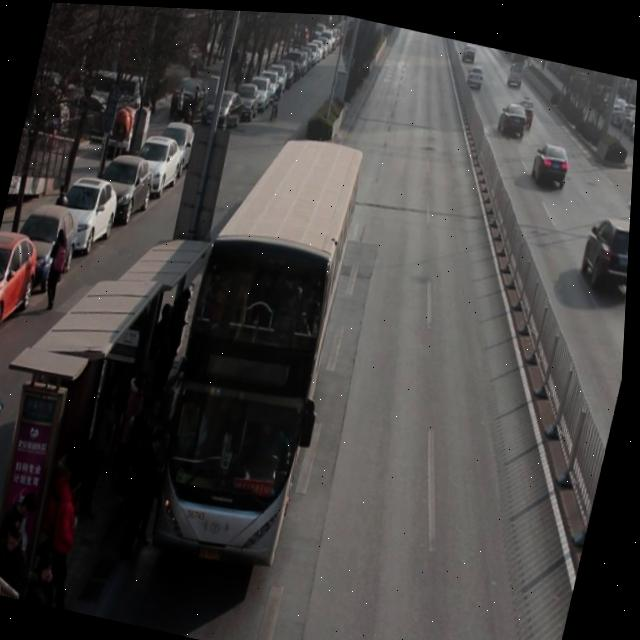car: (578, 208, 632, 297), (528, 133, 575, 187), (496, 94, 533, 138), (512, 88, 539, 124), (463, 58, 486, 89), (460, 41, 477, 60)
truck: (504, 55, 528, 86)
van: (147, 119, 370, 565)
